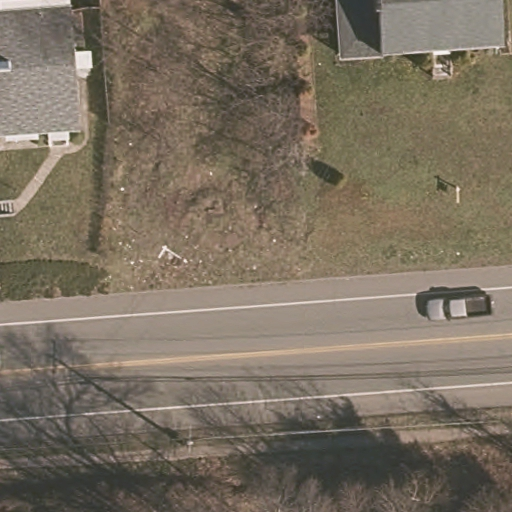DT: (166, 422, 201, 459)
